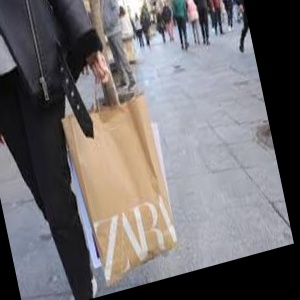zara: (90, 26, 221, 286)
